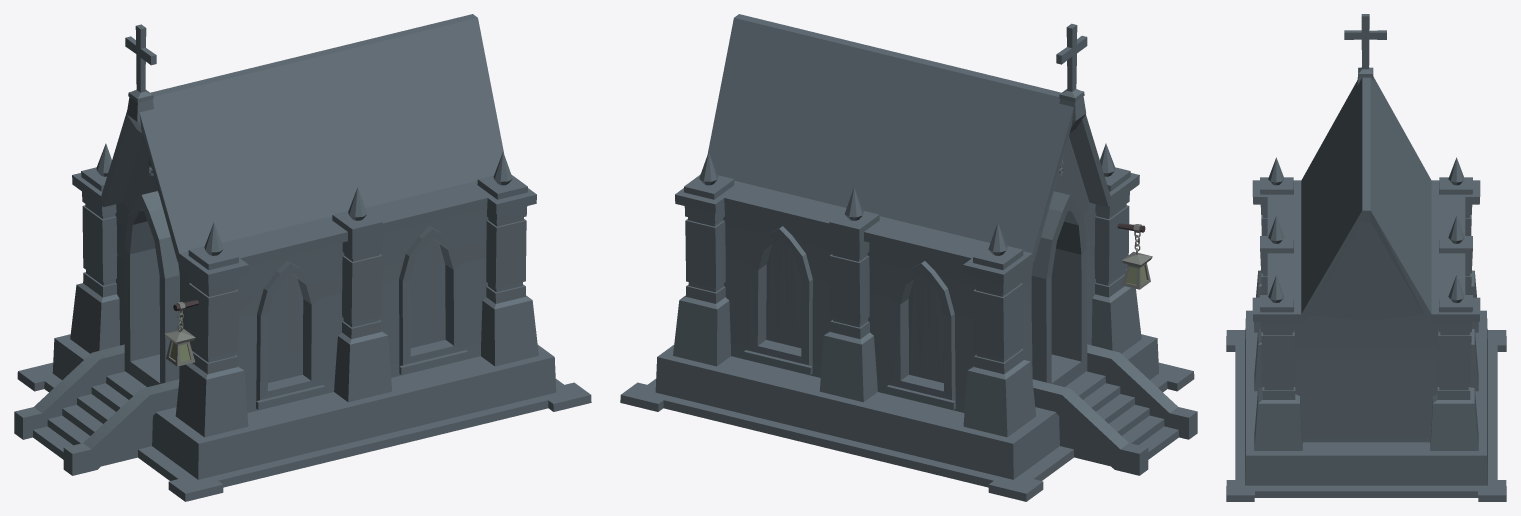
The model's file is crypt.fbx.
The picture shows the model from 3 angles, left to right: view 1: azimuth 30°, elevation 25°; view 2: azimuth 150°, elevation 25°; view 3: azimuth 270°, elevation 25°; orthographic projection. The views are drawn at different scales.
Visible parts, largest first — view 1: Crypt, Light; view 2: Crypt, Light; view 3: Crypt.
Part boxes in pixels (x1,y1,x2,y2): Crypt: [14, 14, 591, 501]; Light: [165, 300, 198, 366]; Crypt: [620, 14, 1197, 501]; Light: [1117, 223, 1152, 289]; Crypt: [1226, 14, 1506, 501].
Bounding box in the file's own units: 53.73 × 44.74 × 33.65.
